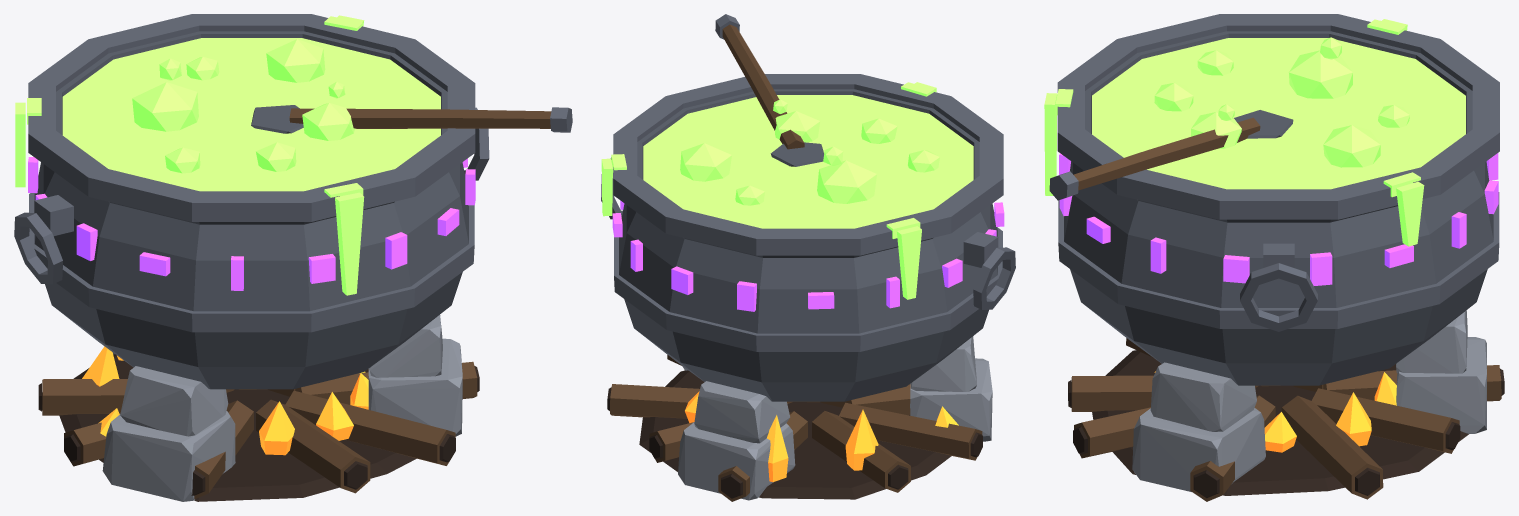
The model's file is Swamp_4_GiantCauldron.fbx.
3 views of the same model, side by side, from view 1: azimuth 30°, elevation 25°; view 2: azimuth 150°, elevation 25°; view 3: azimuth 270°, elevation 25° (orthographic). The views are drawn at different scales.
Visible parts, largest first — view 1: Swamp_4_GiantCauldron__Common_Iron, Swamp_4_GiantCauldron__Neon_Swamp_Toxic, Swamp_4_GiantCauldron__Common_StoneDark, Swamp_4_GiantCauldron__Common_Stone, Swamp_4_GiantCauldron__Swamp_Wood, Swamp_4_GiantCauldron__Swamp_BarkDark, Swamp_4_GiantCauldron__Neon_Swamp_Magic, Swamp_4_GiantCauldron__Neon_Common_Fire; view 2: Swamp_4_GiantCauldron__Common_Iron, Swamp_4_GiantCauldron__Neon_Swamp_Toxic, Swamp_4_GiantCauldron__Common_StoneDark, Swamp_4_GiantCauldron__Common_Stone, Swamp_4_GiantCauldron__Swamp_Wood, Swamp_4_GiantCauldron__Swamp_BarkDark, Swamp_4_GiantCauldron__Neon_Swamp_Magic, Swamp_4_GiantCauldron__Neon_Common_Fire; view 3: Swamp_4_GiantCauldron__Common_Iron, Swamp_4_GiantCauldron__Neon_Swamp_Toxic, Swamp_4_GiantCauldron__Common_StoneDark, Swamp_4_GiantCauldron__Common_Stone, Swamp_4_GiantCauldron__Swamp_Wood, Swamp_4_GiantCauldron__Swamp_BarkDark, Swamp_4_GiantCauldron__Neon_Swamp_Magic, Swamp_4_GiantCauldron__Neon_Common_Fire.
Boxes of the visible parts, x1=… form: Swamp_4_GiantCauldron__Common_Iron: x1=34, y1=31, x2=468, y2=389; Swamp_4_GiantCauldron__Neon_Swamp_Toxic: x1=15, y1=15, x2=440, y2=295; Swamp_4_GiantCauldron__Common_StoneDark: x1=14, y1=14, x2=572, y2=332; Swamp_4_GiantCauldron__Common_Stone: x1=102, y1=315, x2=462, y2=501; Swamp_4_GiantCauldron__Swamp_Wood: x1=42, y1=108, x2=551, y2=499; Swamp_4_GiantCauldron__Swamp_BarkDark: x1=38, y1=354, x2=479, y2=501; Swamp_4_GiantCauldron__Neon_Swamp_Magic: x1=28, y1=157, x2=475, y2=290; Swamp_4_GiantCauldron__Neon_Common_Fire: x1=82, y1=346, x2=368, y2=455; Swamp_4_GiantCauldron__Common_Iron: x1=619, y1=89, x2=997, y2=401; Swamp_4_GiantCauldron__Neon_Swamp_Toxic: x1=601, y1=82, x2=973, y2=299; Swamp_4_GiantCauldron__Common_StoneDark: x1=601, y1=14, x2=1015, y2=351; Swamp_4_GiantCauldron__Common_Stone: x1=678, y1=336, x2=992, y2=500; Swamp_4_GiantCauldron__Swamp_Wood: x1=610, y1=24, x2=982, y2=501; Swamp_4_GiantCauldron__Swamp_BarkDark: x1=607, y1=370, x2=982, y2=499; Swamp_4_GiantCauldron__Neon_Swamp_Magic: x1=612, y1=200, x2=1004, y2=311; Swamp_4_GiantCauldron__Neon_Common_Fire: x1=685, y1=391, x2=958, y2=482; Swamp_4_GiantCauldron__Common_Iron: x1=1064, y1=31, x2=1493, y2=385; Swamp_4_GiantCauldron__Neon_Swamp_Toxic: x1=1044, y1=19, x2=1465, y2=246; Swamp_4_GiantCauldron__Common_StoneDark: x1=1049, y1=14, x2=1499, y2=331; Swamp_4_GiantCauldron__Common_Stone: x1=1132, y1=310, x2=1486, y2=491; Swamp_4_GiantCauldron__Swamp_Wood: x1=1071, y1=117, x2=1501, y2=501; Swamp_4_GiantCauldron__Swamp_BarkDark: x1=1068, y1=350, x2=1504, y2=498; Swamp_4_GiantCauldron__Neon_Swamp_Magic: x1=1059, y1=153, x2=1498, y2=285; Swamp_4_GiantCauldron__Neon_Common_Fire: x1=1154, y1=371, x2=1396, y2=452.
Bounding box in the file's own units: 49.19 × 36.91 × 44.02.
